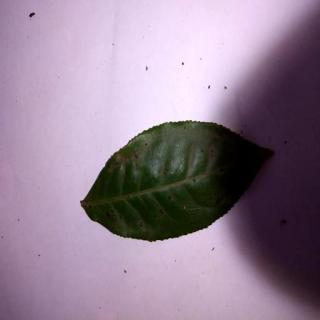Bird Eye Spot: (82, 122, 276, 242)
